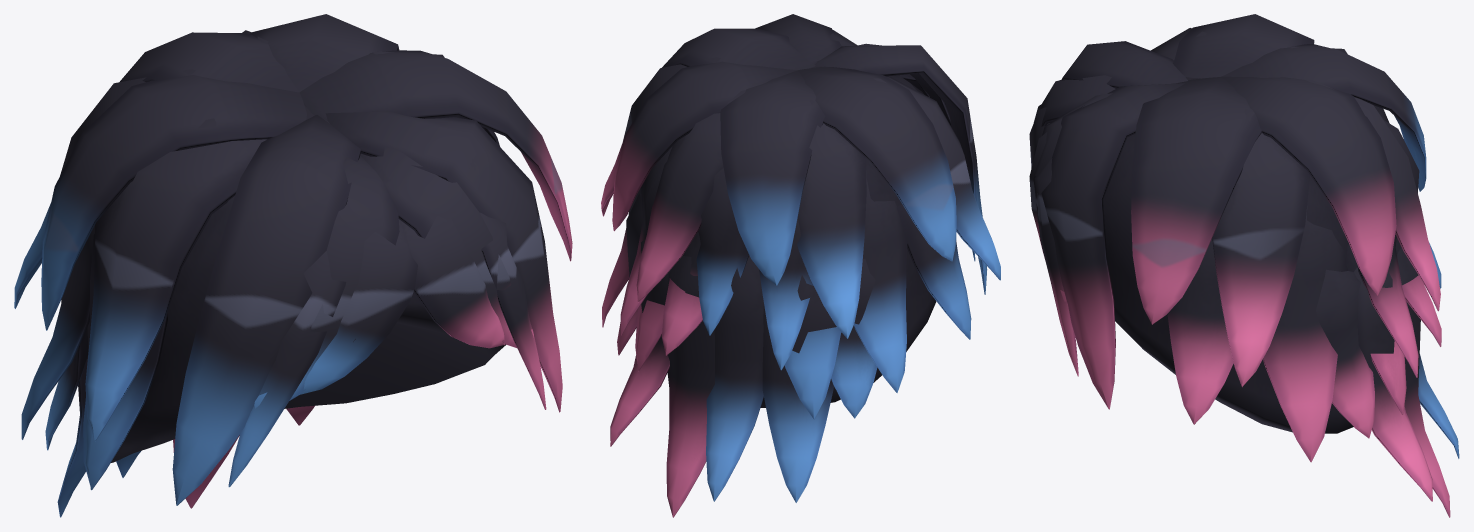
The model's file is FluffyWolfCut_Duo.fbx.
3 views of the same model, side by side, from view 1: azimuth 30°, elevation 25°; view 2: azimuth 150°, elevation 25°; view 3: azimuth 270°, elevation 25° (orthographic). The views are drawn at different scales.
Visible parts, largest first — view 1: FluffyWolfCut; view 2: FluffyWolfCut; view 3: FluffyWolfCut.
Part boxes in pixels (x1=…): FluffyWolfCut: x1=14, y1=14, x2=572, y2=517; FluffyWolfCut: x1=601, y1=14, x2=1000, y2=517; FluffyWolfCut: x1=1029, y1=14, x2=1459, y2=517.
Bounding box in the file's own units: 1.71 × 1.78 × 1.56.
Materials: 1 (1 with a texture image).
